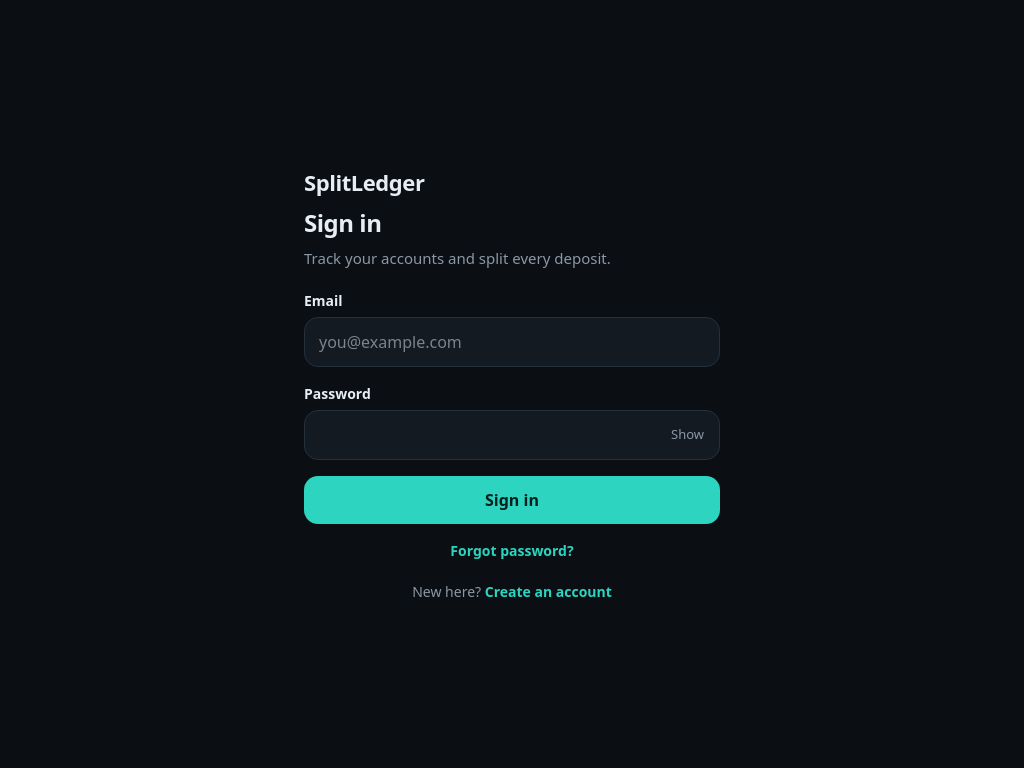
Test: login › signs in and lands on home
The image size is (1024, 768).
In the field labelled "Email": (512, 342) [304,317,720,367], type "alice@example.com"
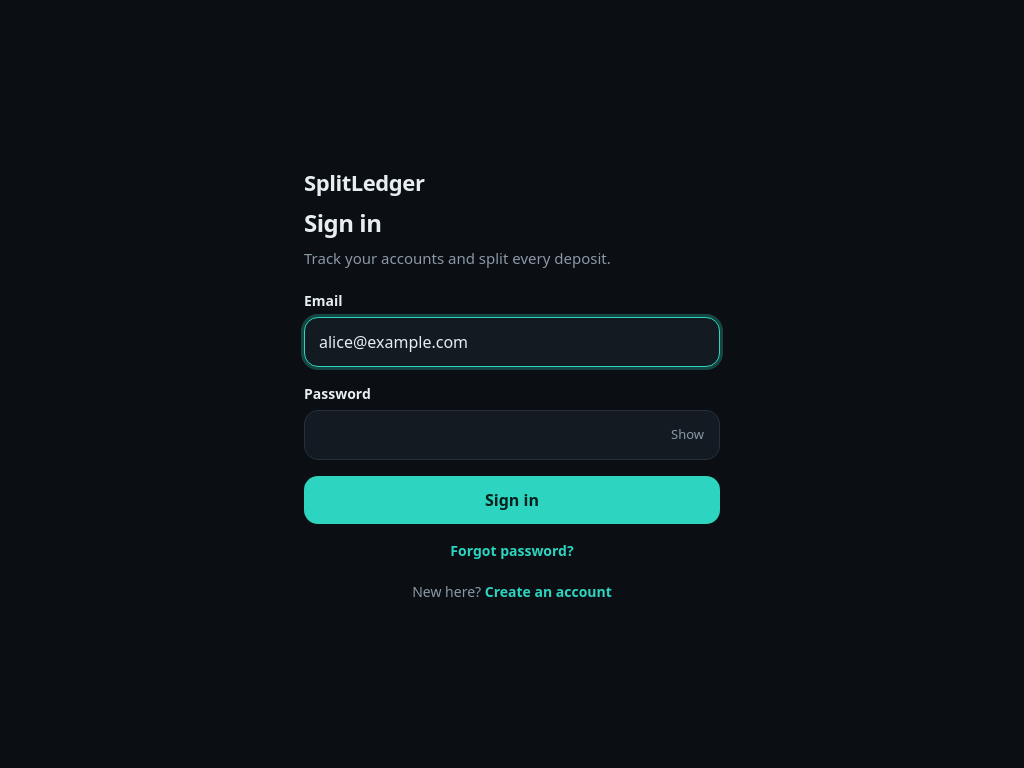
In the password field labelled "Password": (512, 435) [304,410,720,460], type "correct horse battery"
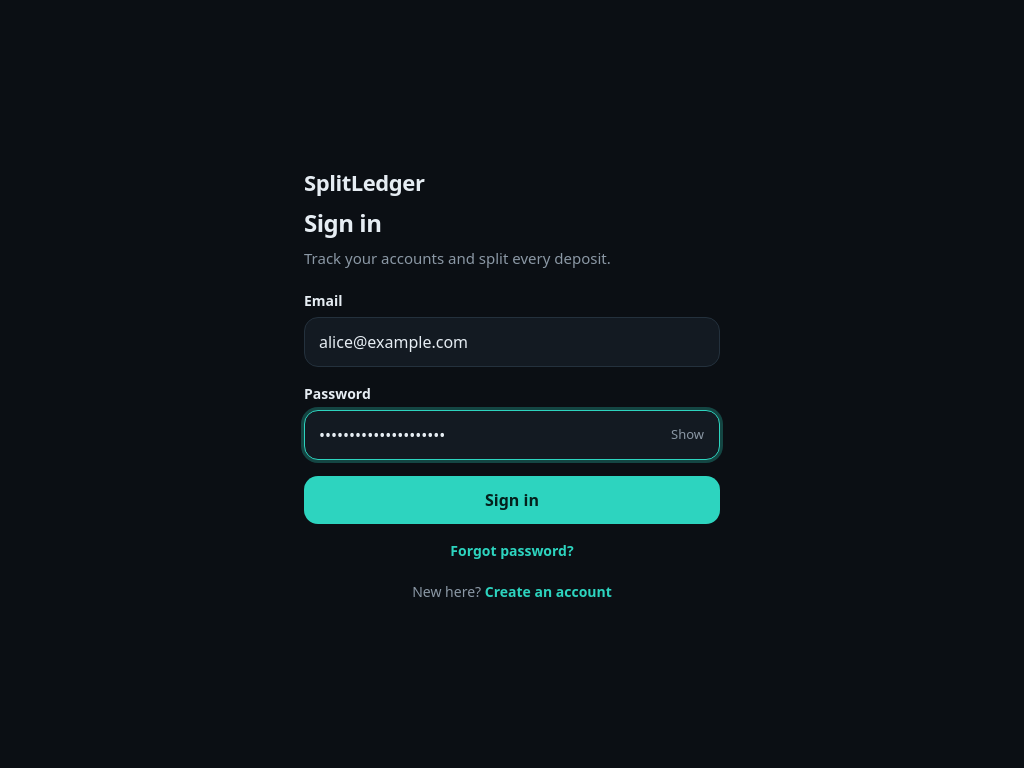
Click the button "Sign in": (512, 500) [304,476,720,524]
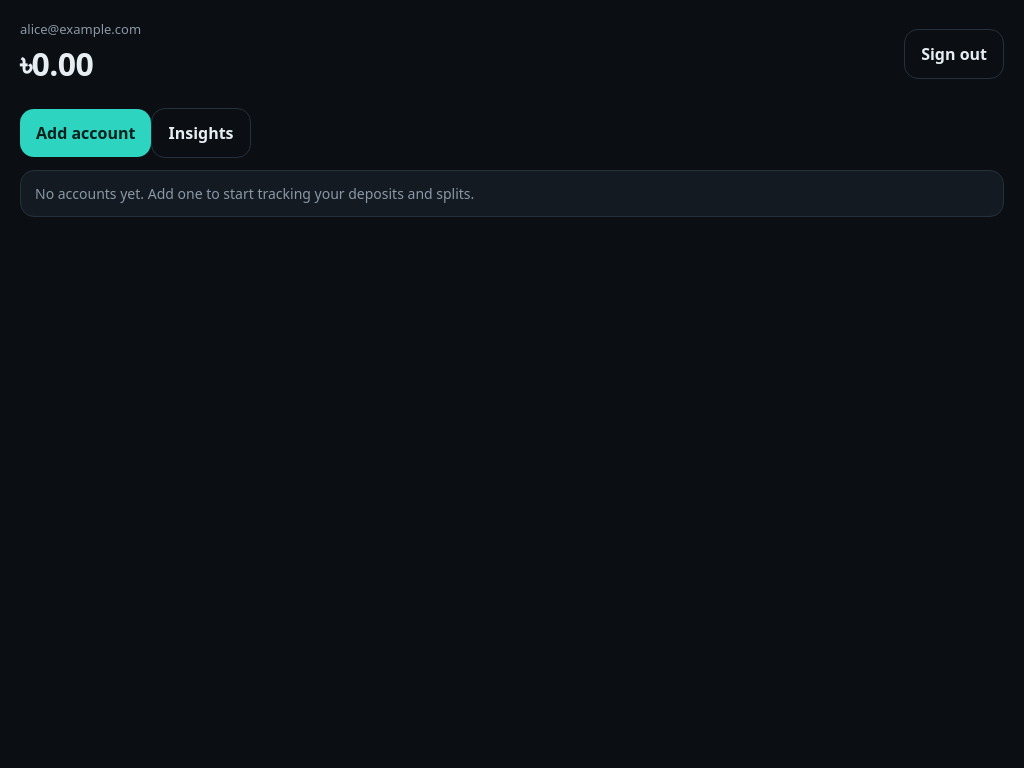
Now the link "Add account" is shown, box [20,108,152,156]
